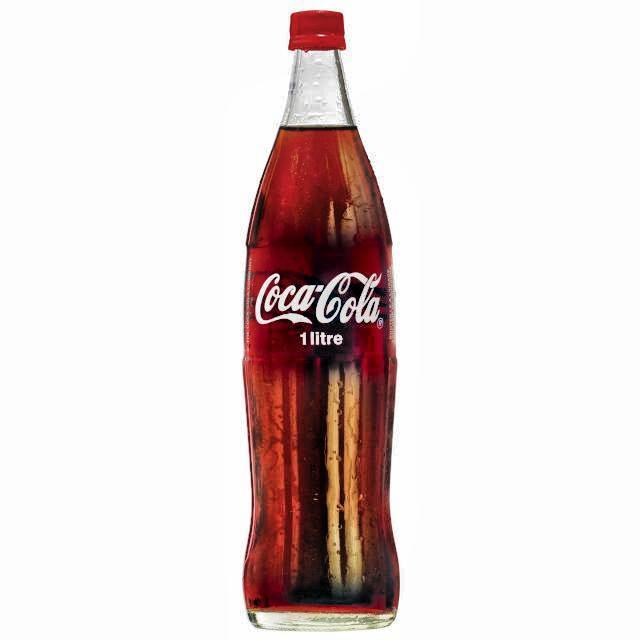glass: (240, 10, 402, 636)
